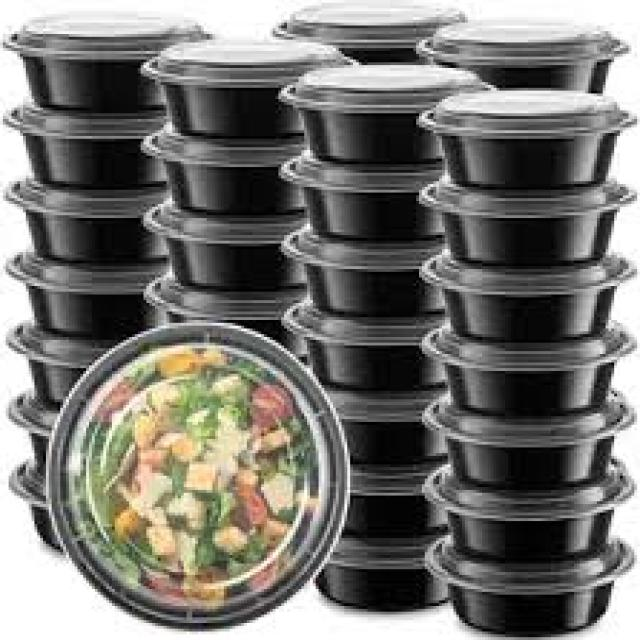disposable: (424, 86, 638, 205), (287, 48, 489, 170), (138, 30, 348, 144), (5, 14, 210, 116), (438, 243, 632, 349), (432, 173, 628, 264)
